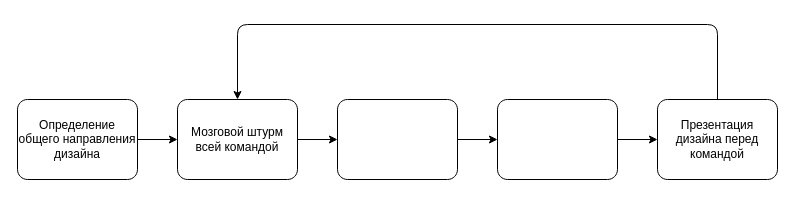
The diagram is 795 pixels wide and 197 high, and some of its shapes have lost their labels. The centre of each missing label's shape, as x and y in pixels:
Независимый дизайн основной дизайн-группы: the point at 397,139
Обсуждение дизайна среди основной дизайн-группы: the point at 557,139
